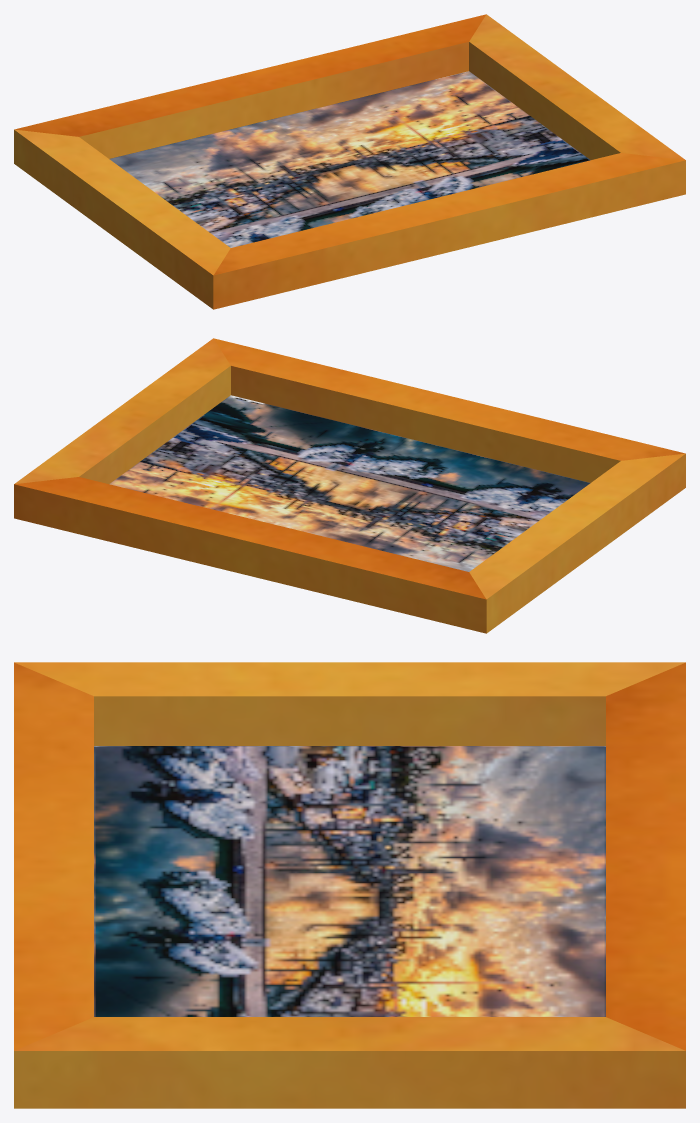
The model's file is frame6.FBX.
3 views of the same model, one above another, from view 1: azimuth 30°, elevation 25°; view 2: azimuth 150°, elevation 25°; view 3: azimuth 270°, elevation 25° (orthographic). The views are drawn at different scales.
Parts seen in each view (by area): view 1: Box001, Object001; view 2: Box001, Object001; view 3: Box001, Object001.
Part boxes in pixels (x1,y1,x2,y2): Box001: [14, 14, 685, 309]; Object001: [109, 71, 590, 247]; Box001: [14, 338, 685, 633]; Object001: [109, 395, 590, 571]; Box001: [14, 662, 685, 1108]; Object001: [94, 746, 605, 1016].
Size of the model in its own units: 73.08 by 5.05 by 53.42.
Materials: 3 (2 with a texture image).
